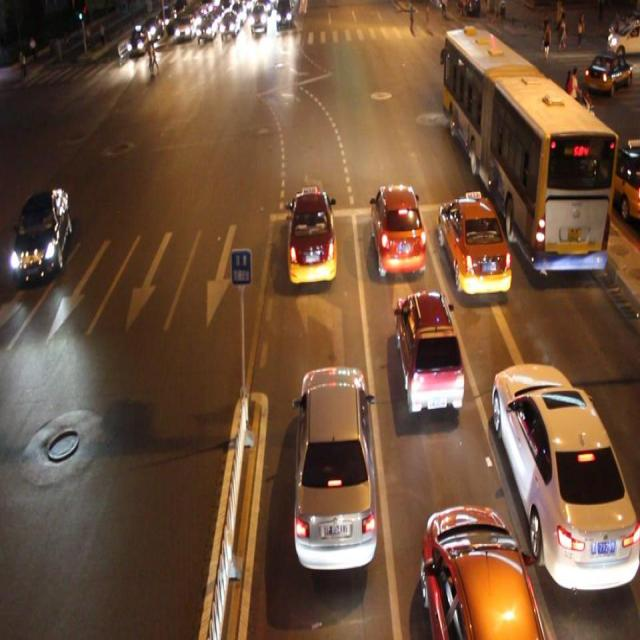car: (490, 359, 640, 592), (421, 501, 544, 640), (293, 364, 376, 569), (392, 290, 461, 412), (439, 195, 509, 298), (11, 186, 70, 280), (285, 186, 337, 287), (370, 182, 426, 275)
van: (442, 25, 616, 274)
